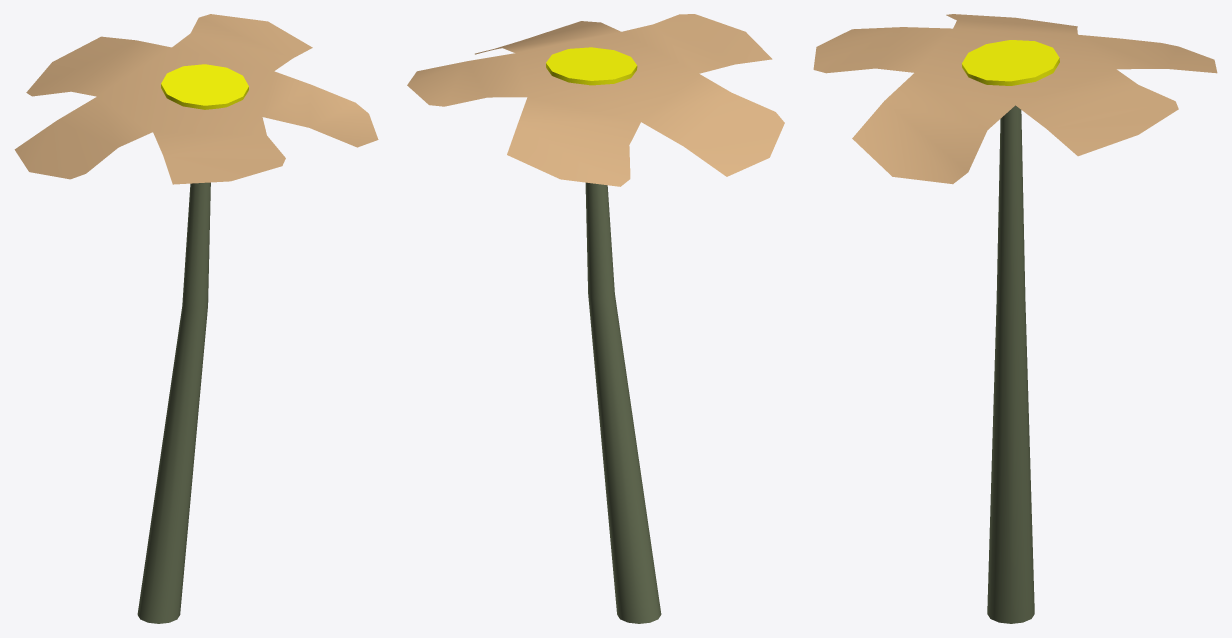
File: oranje bloem.fbx
The picture shows the model from 3 angles, left to right: view 1: azimuth 30°, elevation 25°; view 2: azimuth 150°, elevation 25°; view 3: azimuth 270°, elevation 25°; orthographic projection. The views are drawn at different scales.
Parts seen in each view (by area): view 1: polySurface139; view 2: polySurface139; view 3: polySurface139.
Part boxes in pixels (x1,y1,x2,y2): polySurface139: (14,14,378,623); polySurface139: (407,14,784,623); polySurface139: (813,14,1217,623).
Size of the model in its own units: 0.2732 by 0.4364 by 0.2749.
